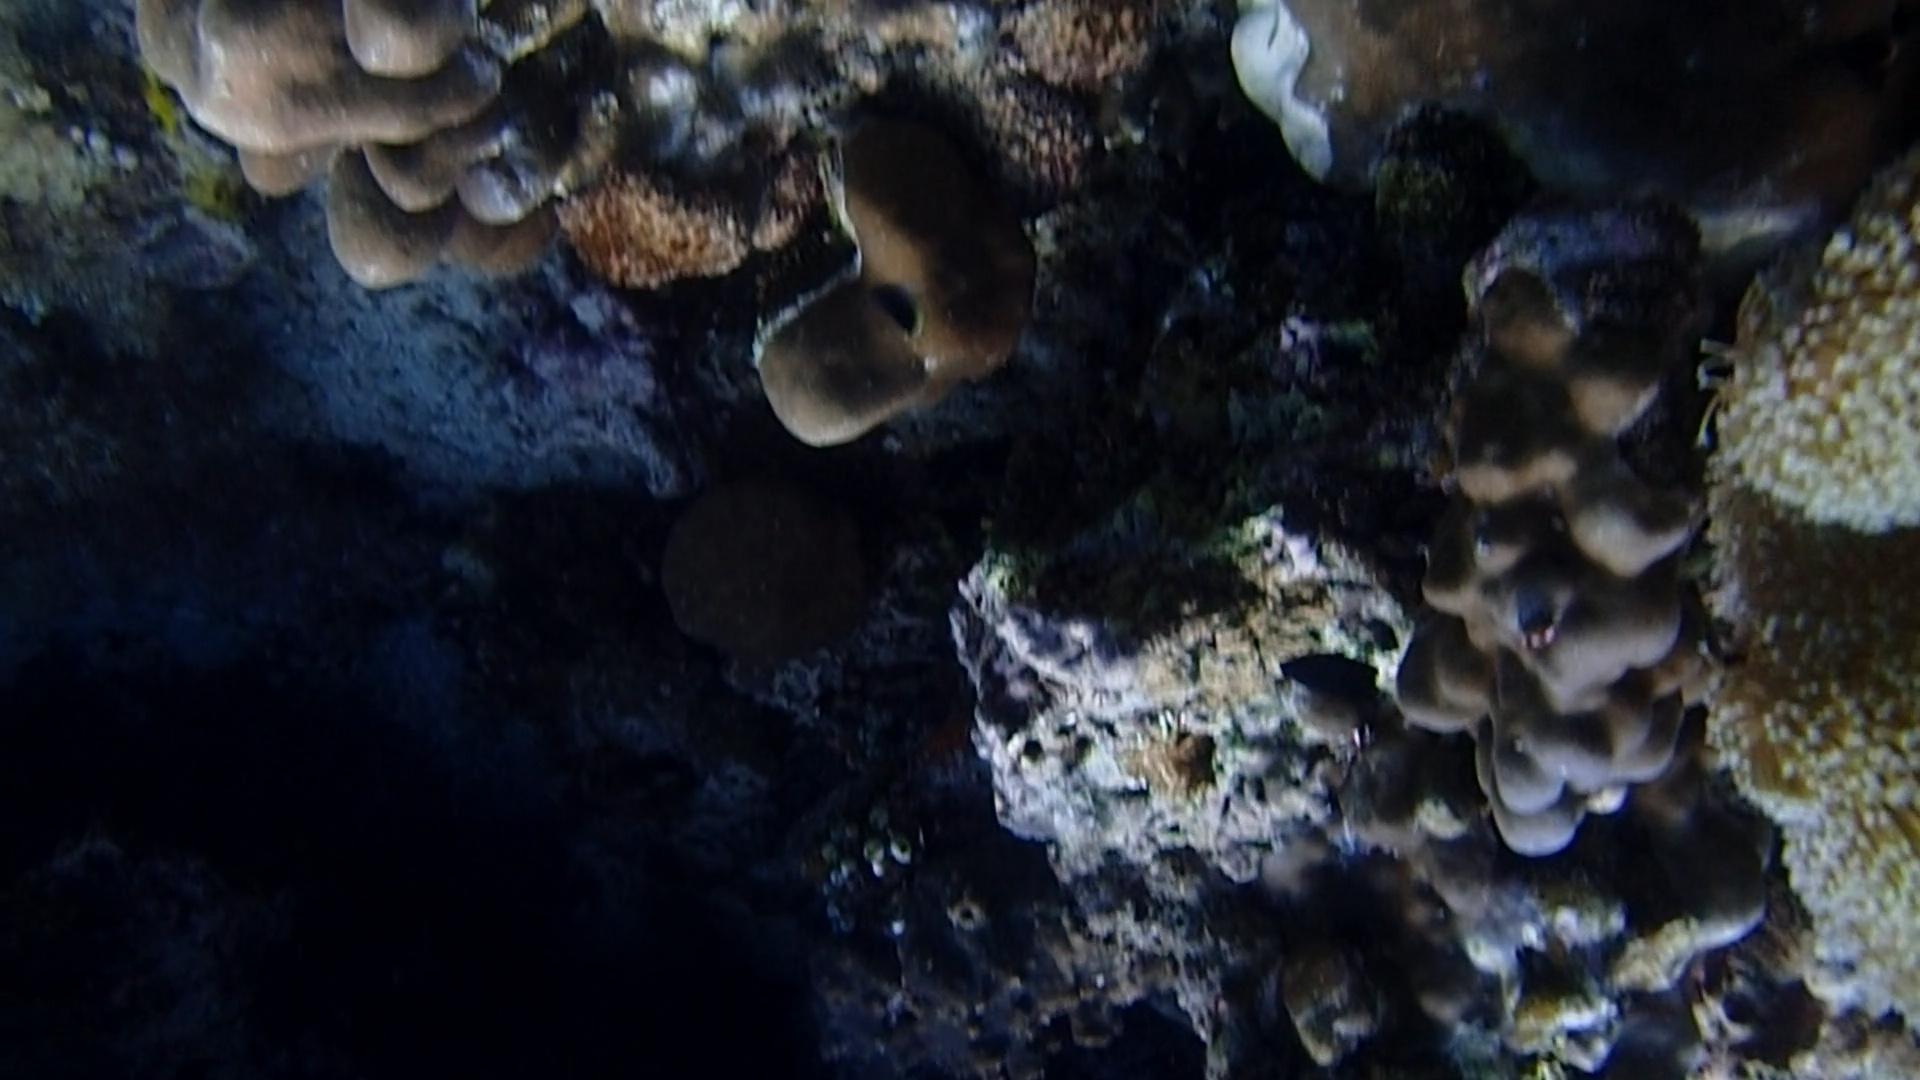Dark Fish: (1286, 633, 1387, 720)
Yellow Tail: (865, 276, 927, 356)
